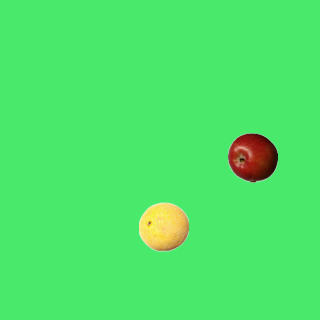Apple Braeburn: (227, 132, 277, 182)
Cantaloupe 1: (138, 201, 188, 251)
